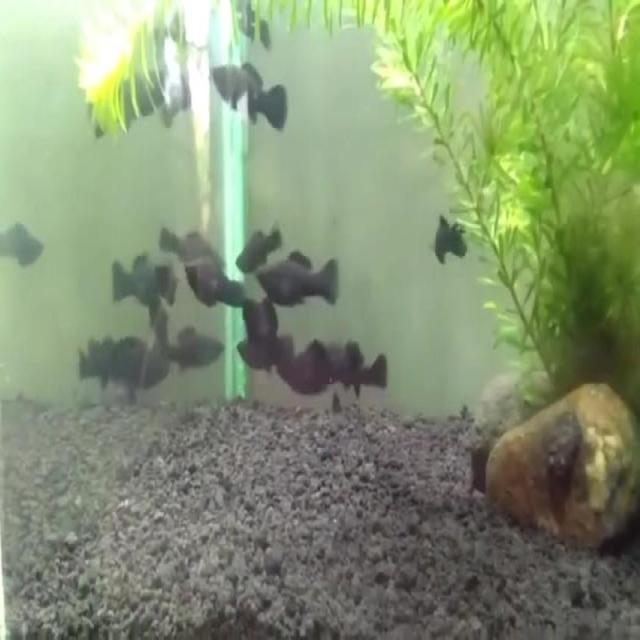PlatyFish: (204, 56, 294, 136), (250, 243, 344, 317)
